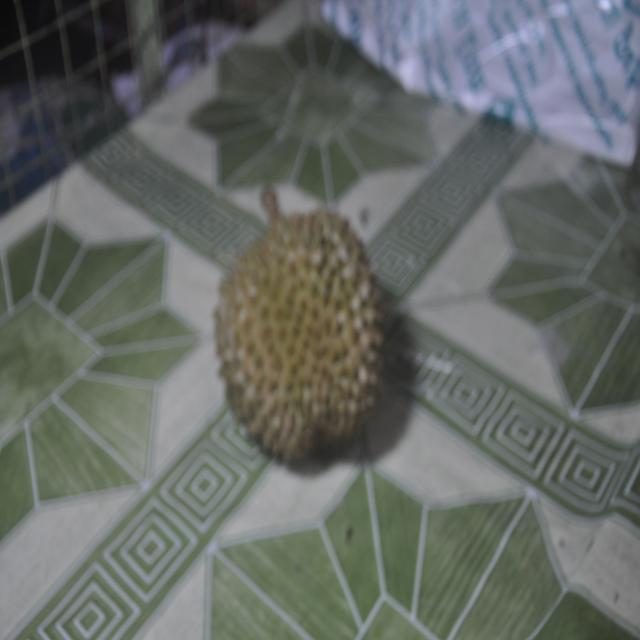mature: (200, 161, 416, 499)
